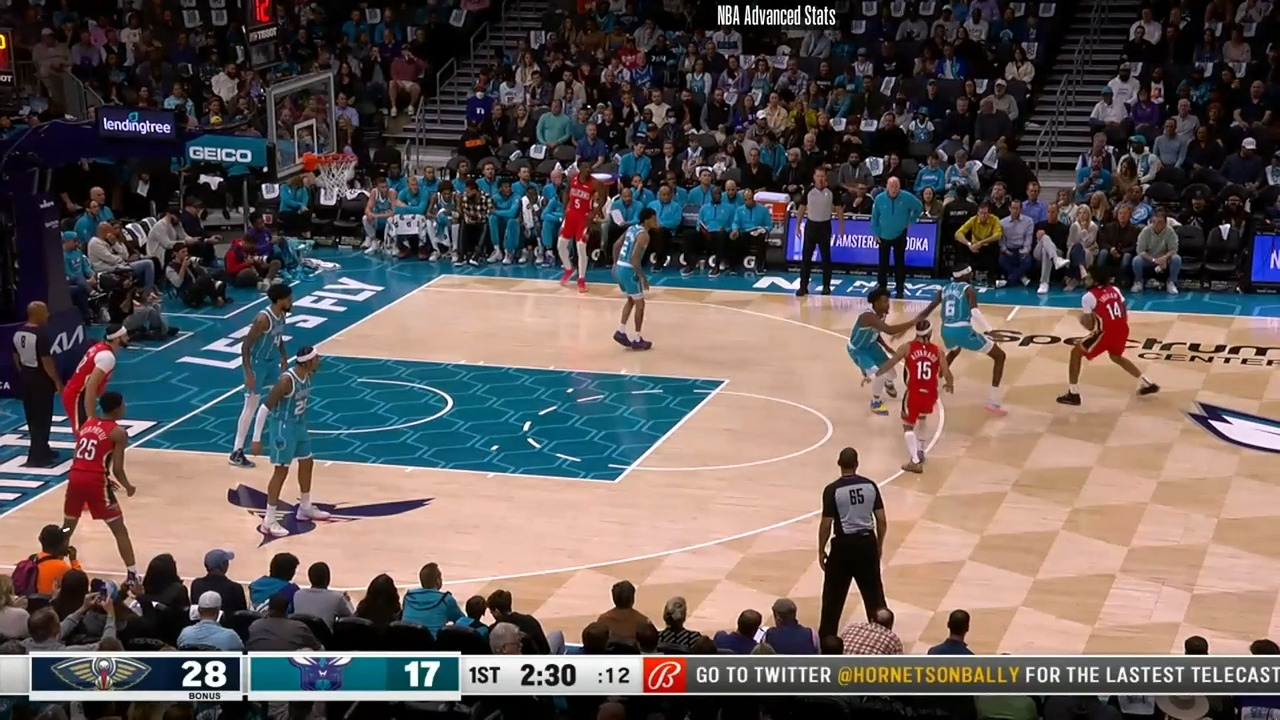net: (301, 148, 360, 195)
player: (54, 388, 146, 581), (258, 343, 339, 535), (918, 263, 1014, 420), (866, 316, 955, 482), (1060, 270, 1156, 404), (234, 284, 302, 471), (60, 317, 139, 437), (844, 290, 909, 418), (552, 155, 610, 296), (607, 209, 659, 357)
referee: (813, 446, 894, 645), (10, 299, 77, 471), (793, 164, 852, 306)
